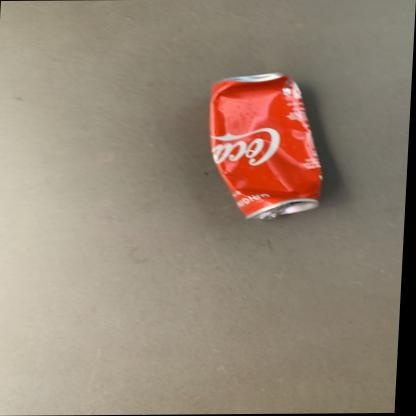trash: (210, 73, 321, 219)
